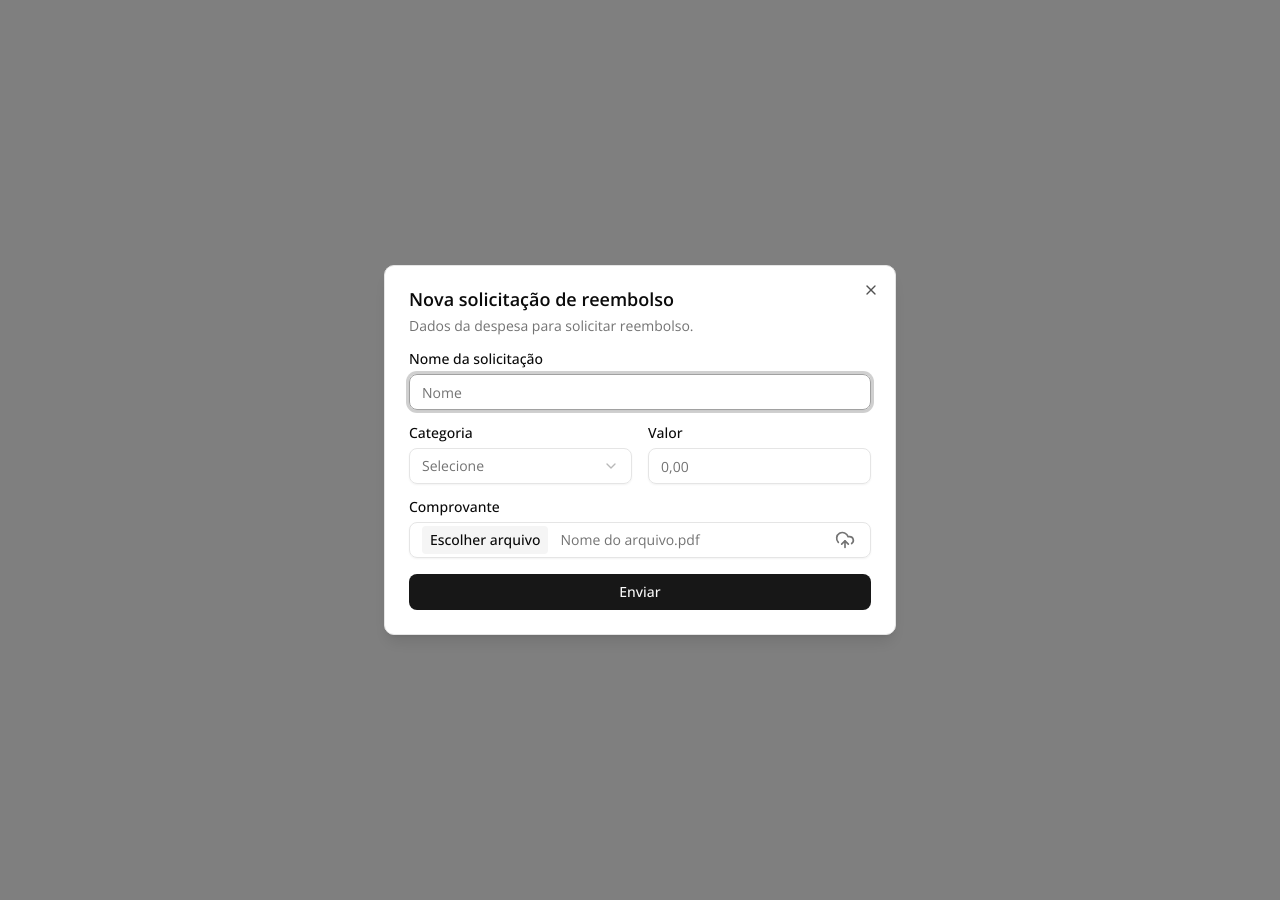
Test case: shows the translated message when a required field is left empty
The width and height of the screenshot is (1280, 900).
Click the button "Enviar" at (640, 592), box [409,574,871,610]
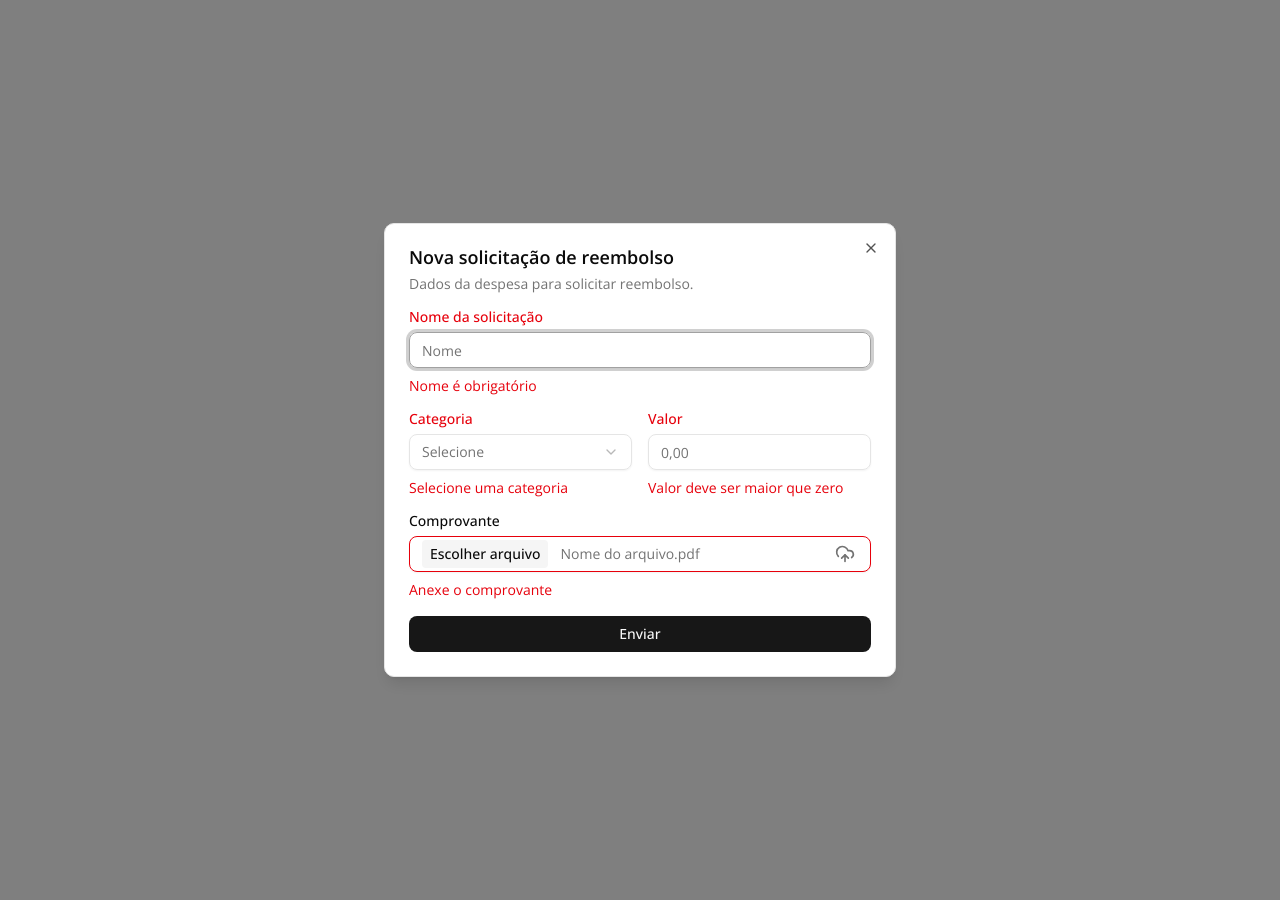
Expected: the text "Nome é obrigatório" is shown, [409,376,537,395]
